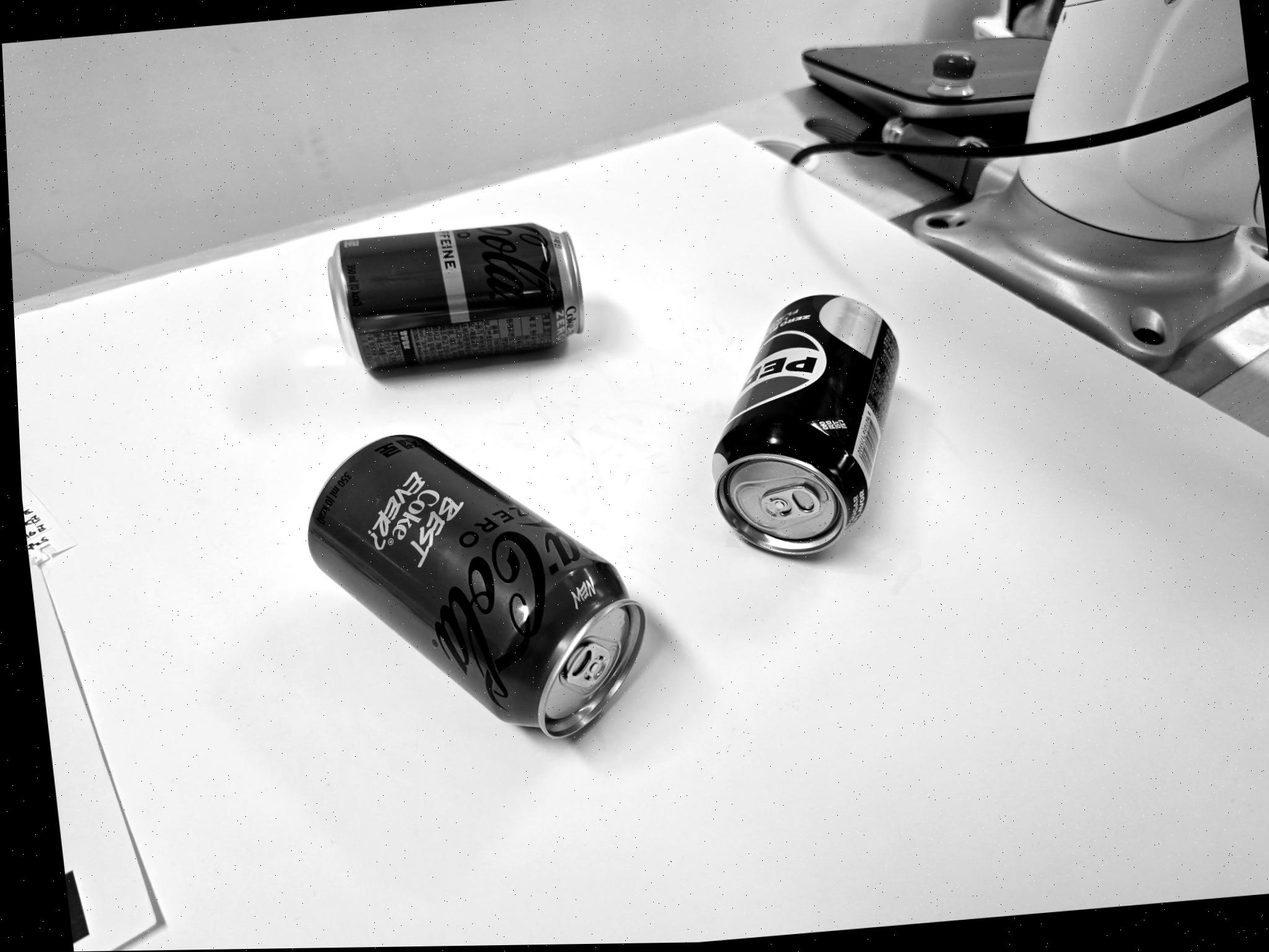can_coke_decaf: (315, 224, 585, 390)
can_coke_zero: (304, 429, 650, 748)
can_pepsi_zero: (703, 294, 904, 563)
